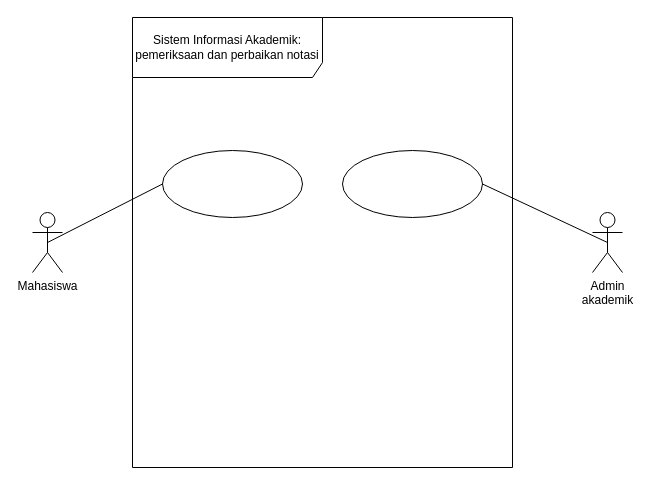
Image size: 650x485. Some labels were removed from this diagram. Here are the shapes that lost their labels. From the top down, the box of each, then its label:
(162, 150, 302, 218): Lihat jadwal kuliah
(342, 150, 482, 218): Kelola jadwal kuliah
